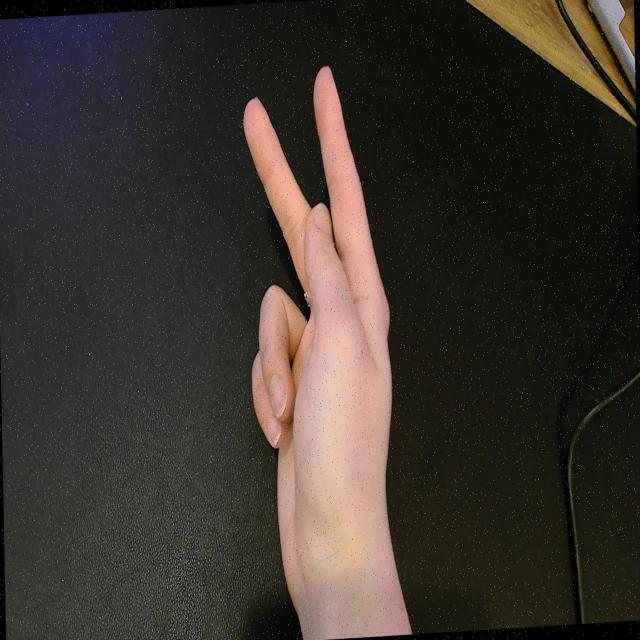K: (227, 52, 404, 599)
